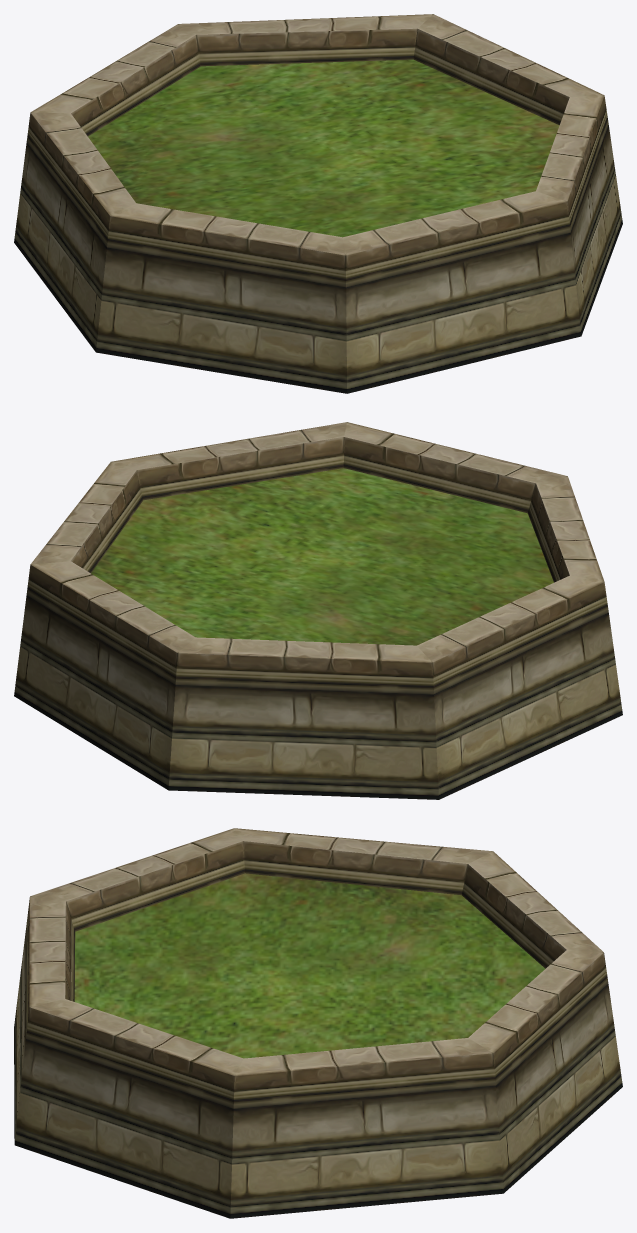
The model's file is DN_mchuatan01_b.FBX.
3 renders of one model, top to bottom at view 1: azimuth 30°, elevation 25°; view 2: azimuth 150°, elevation 25°; view 3: azimuth 270°, elevation 25°, orthographic. The views are drawn at different scales.
Parts seen in each view (by area): view 1: DN_mchuatan01_b; view 2: DN_mchuatan01_b; view 3: DN_mchuatan01_b.
Part boxes in pixels (left/top/right/bottom): DN_mchuatan01_b: left=14, top=14, right=622, bottom=393; DN_mchuatan01_b: left=14, top=422, right=622, bottom=799; DN_mchuatan01_b: left=14, top=828, right=622, bottom=1218.
Bounding box in the file's own units: 385 × 93.01 × 375.
1 material, 1 textured.
